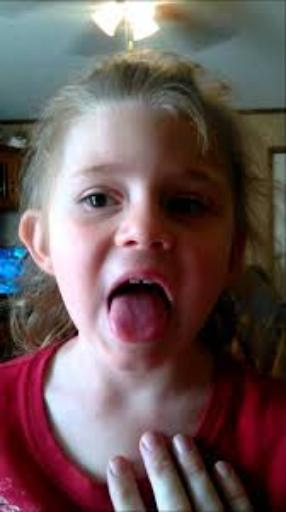left_eye: (168, 196, 218, 223)
left_lip_corner: (164, 295, 180, 316)
right_eye: (76, 189, 123, 215)
right_lip_corner: (99, 284, 125, 309)
